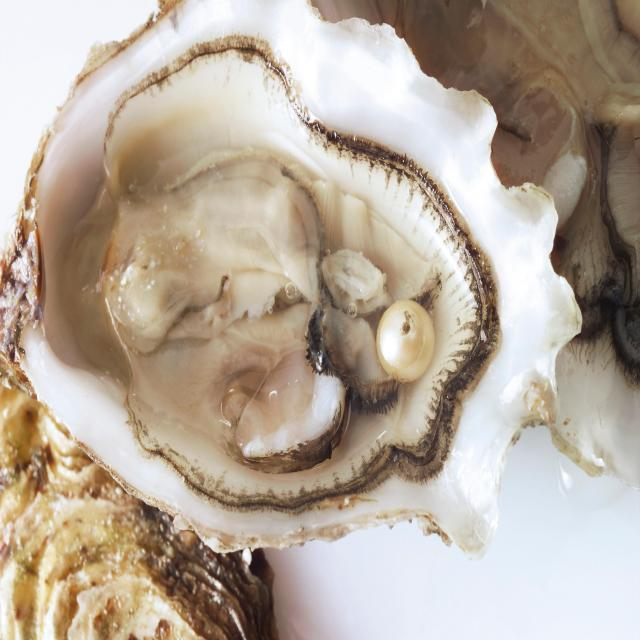Oyster- Indeterminate: (0, 388, 261, 640)
Oyster-Open: (13, 0, 583, 558)
